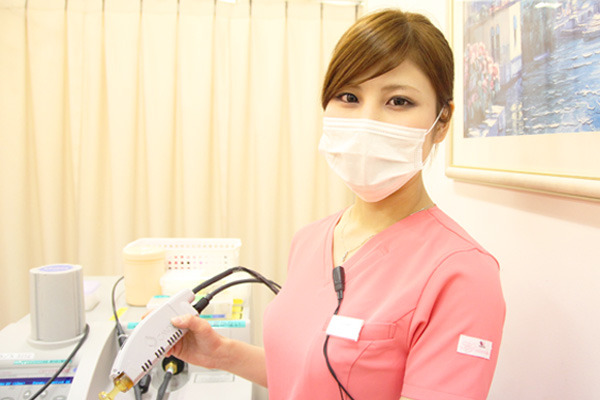mask: (318, 118, 425, 202)
